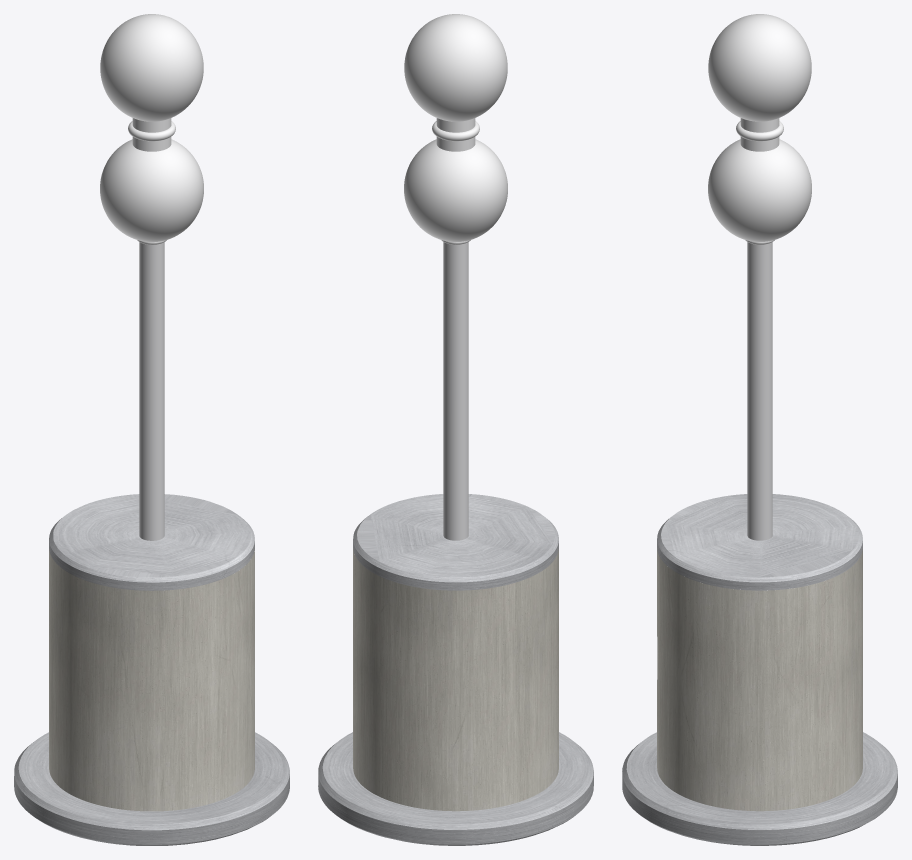
Rendered from knight-white-hd.glb.
3 renders of one model, left to right at view 1: azimuth 30°, elevation 25°; view 2: azimuth 150°, elevation 25°; view 3: azimuth 270°, elevation 25°, orthographic.
Parts seen in each view (by area): view 1: ferro-orbis_knight_white; view 2: ferro-orbis_knight_white; view 3: ferro-orbis_knight_white.
Boxes of the visible parts, bbox=[...] form: ferro-orbis_knight_white: bbox=[14, 14, 289, 845]; ferro-orbis_knight_white: bbox=[318, 14, 593, 845]; ferro-orbis_knight_white: bbox=[622, 14, 897, 845].
Bounding box in the file's own units: 0.4283 × 1.32 × 0.4282.
5 materials, 3 textured.
